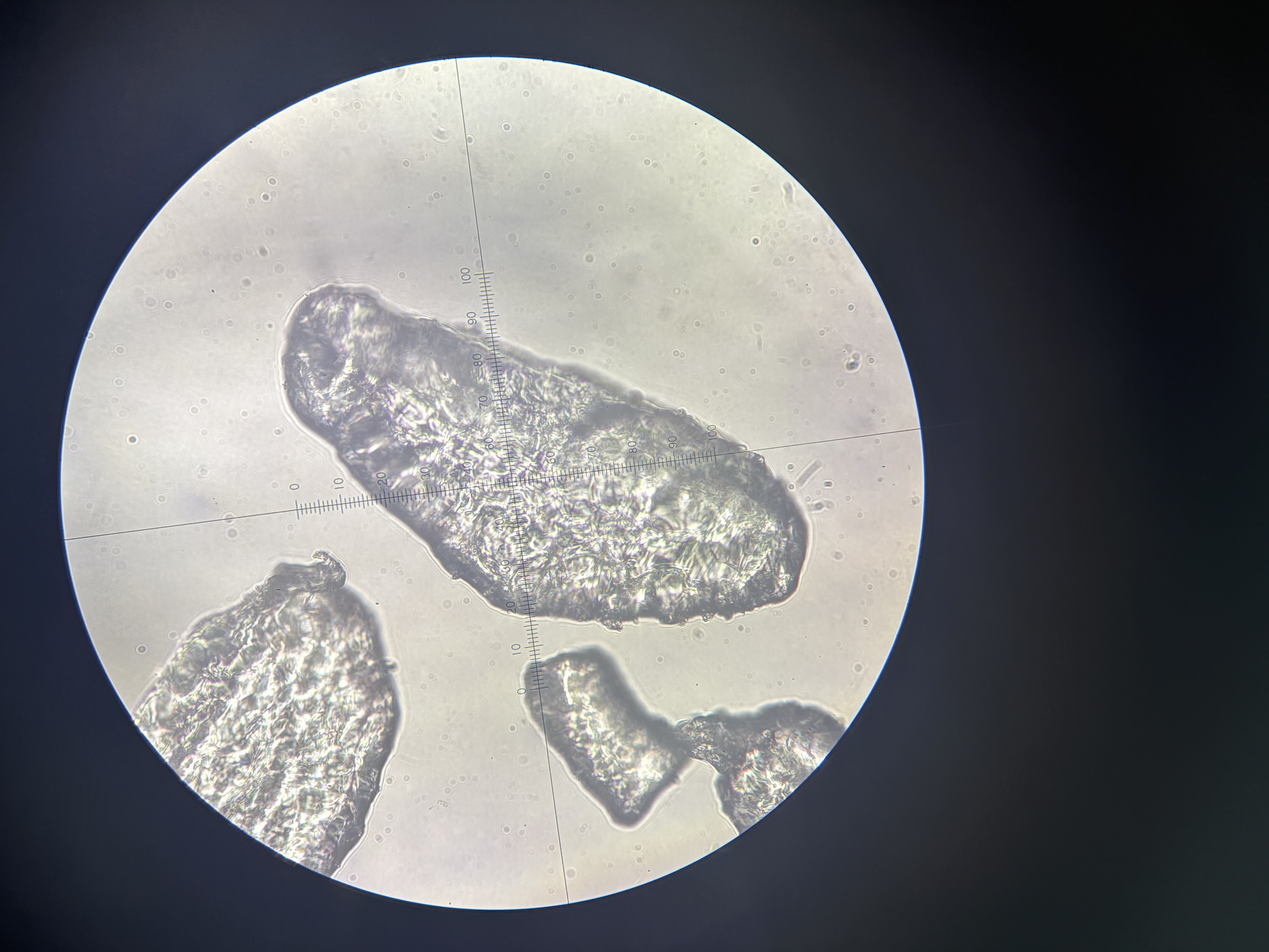microplastic: (273, 279, 819, 637), (126, 548, 410, 882), (521, 640, 702, 836), (670, 693, 849, 842)
